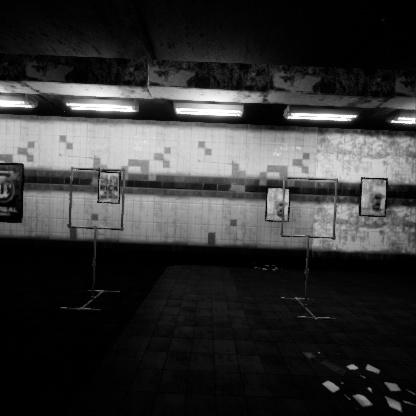gate: (68, 185, 130, 249), (281, 176, 343, 240)
